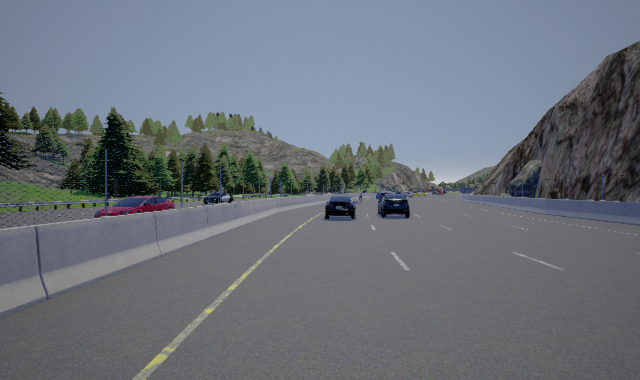vehicle: (93, 196, 175, 218), (378, 191, 411, 219), (325, 196, 358, 219), (202, 190, 236, 204)
